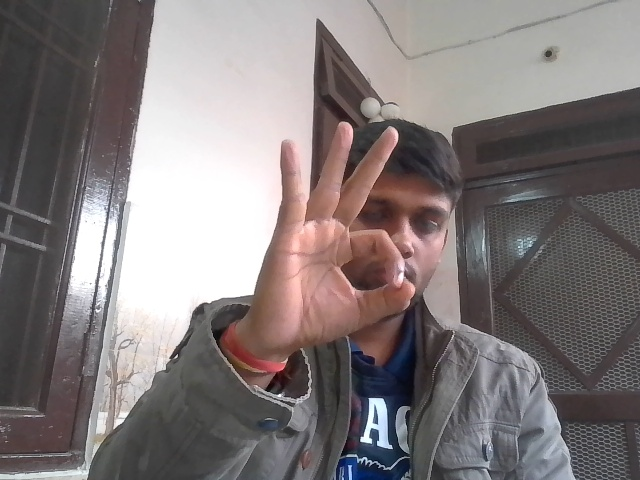Good: (252, 120, 426, 344)
